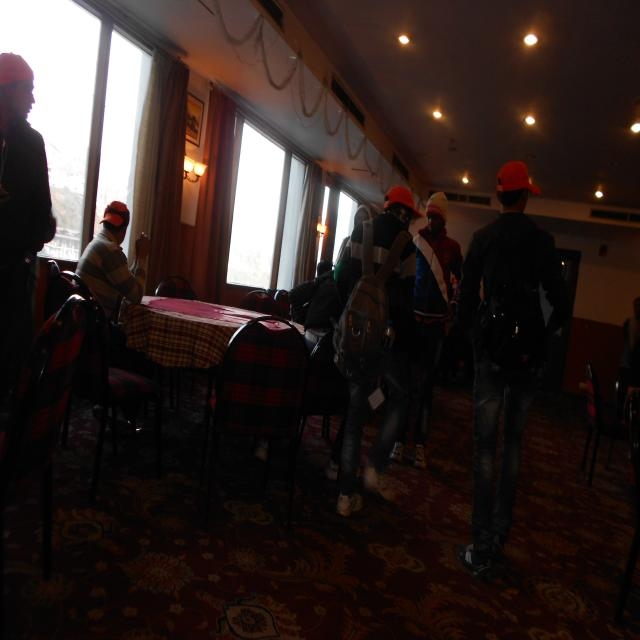People: (449, 123, 586, 589), (0, 40, 84, 382), (66, 173, 169, 382), (393, 141, 470, 398), (358, 157, 419, 480)
Table: (130, 275, 332, 441)
chair: (225, 292, 337, 514)
